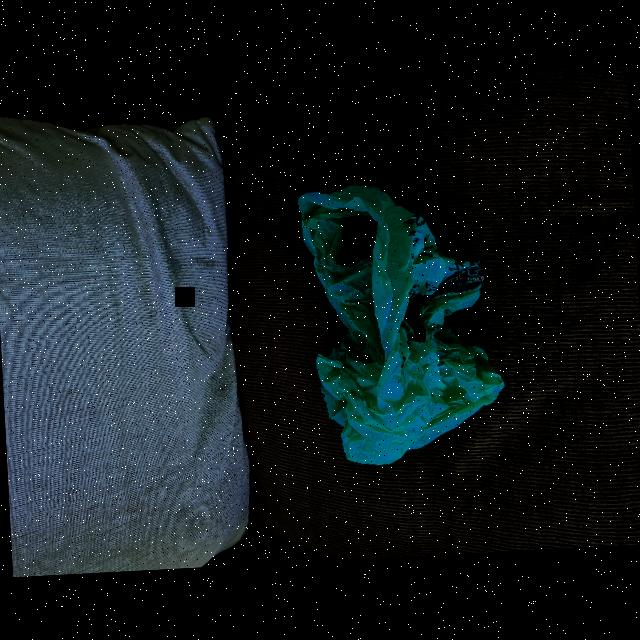plastic_bag: (298, 173, 507, 466)
